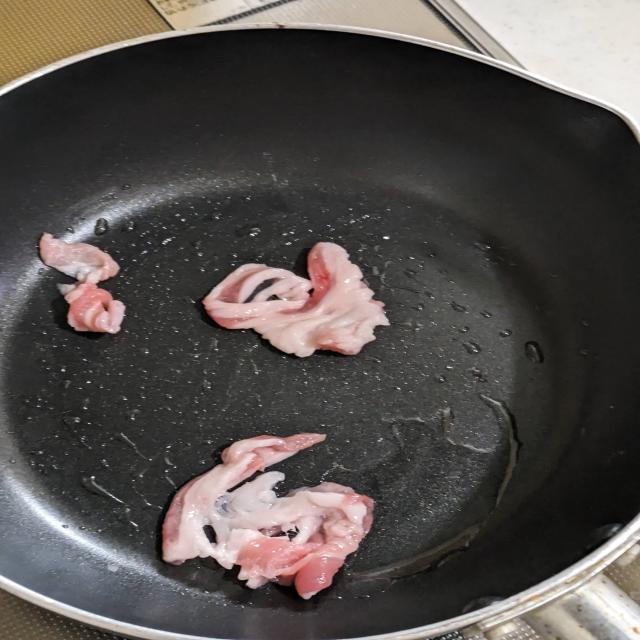NG raw pork,: (149, 424, 384, 610), (195, 235, 399, 364), (31, 226, 133, 338)
